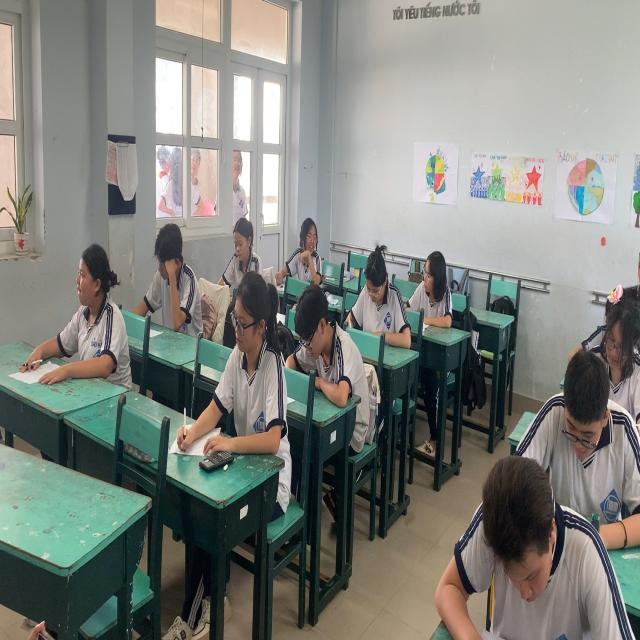cheating: (280, 207, 327, 286), (407, 251, 455, 327)
not_cheating: (459, 462, 578, 640), (214, 276, 284, 465), (547, 358, 619, 518), (66, 234, 133, 383), (134, 220, 203, 334), (294, 279, 354, 410), (348, 234, 412, 355), (593, 296, 640, 393), (220, 216, 261, 282)
